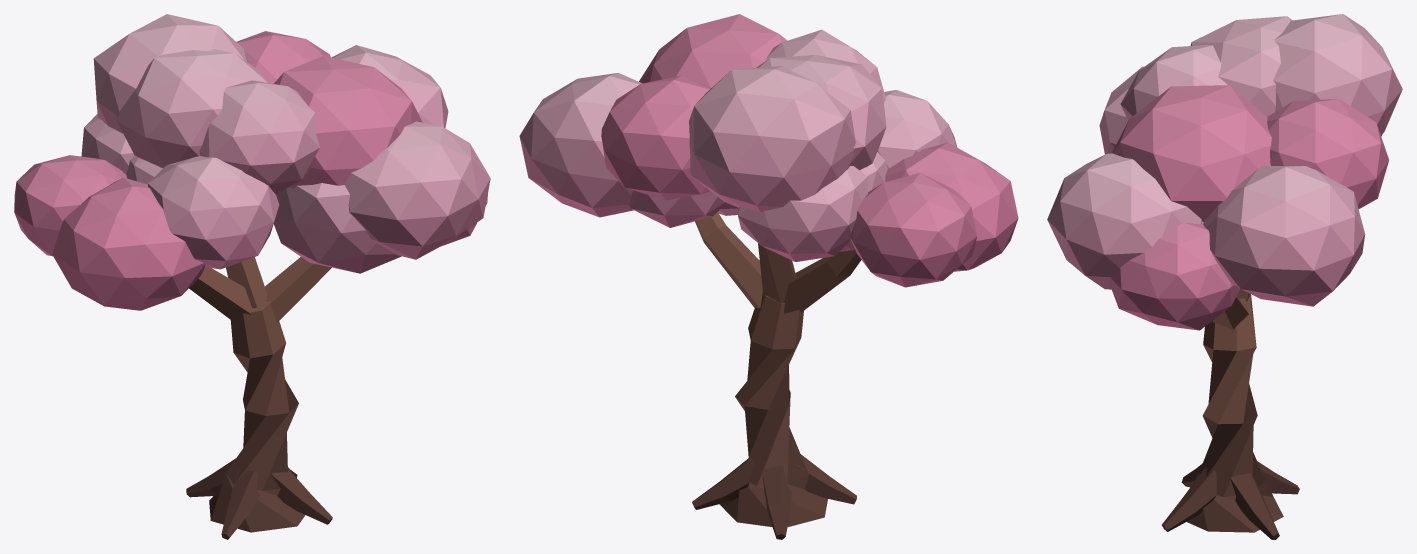
The model's file is tree_blossom.fbx.
3 views of the same model, side by side, from view 1: azimuth 30°, elevation 25°; view 2: azimuth 150°, elevation 25°; view 3: azimuth 270°, elevation 25° (orthographic). The views are drawn at different scales.
Visible parts, largest first — view 1: tree_blossom; view 2: tree_blossom; view 3: tree_blossom.
Boxes of the visible parts, left/top/right/bottom form: tree_blossom: left=14, top=14, right=490, bottom=539; tree_blossom: left=519, top=14, right=1018, bottom=539; tree_blossom: left=1047, top=14, right=1402, bottom=539.
Size of the model in its own units: 9.85 by 10.47 by 7.14.
